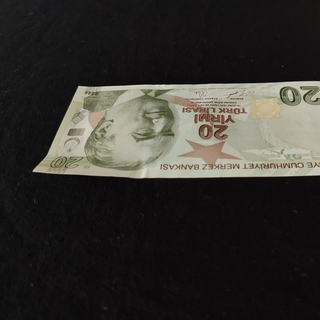20TLFront: (32, 81, 320, 179)
